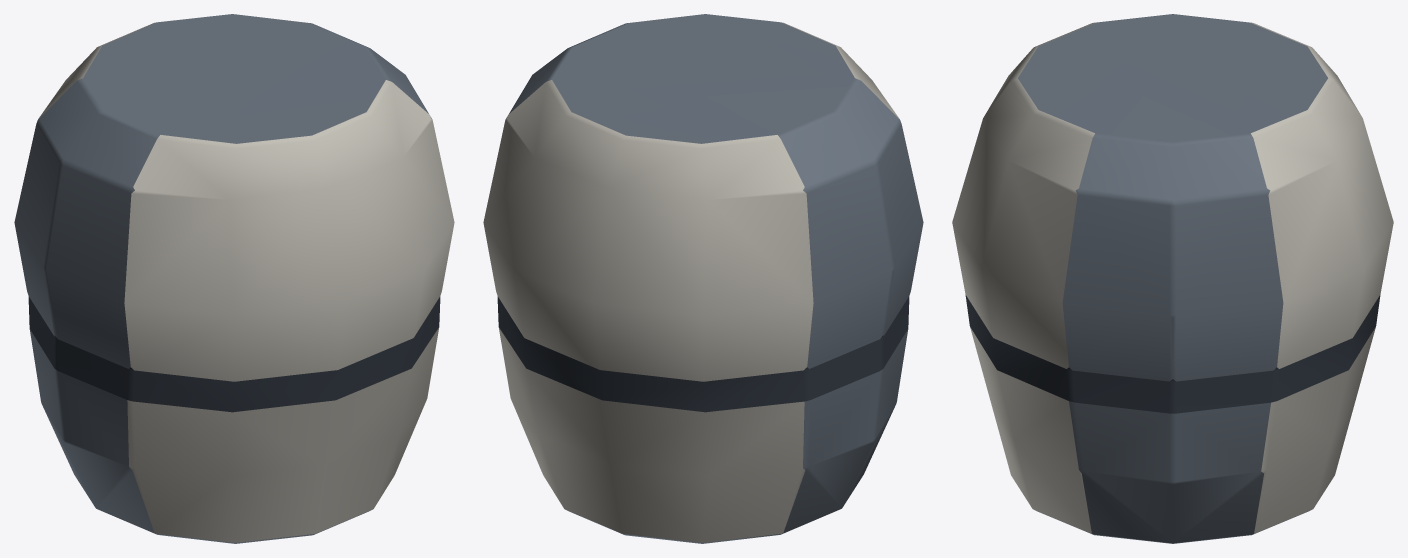
The model's file is forearm.glb.
The picture shows the model from 3 angles, left to right: view 1: azimuth 30°, elevation 25°; view 2: azimuth 150°, elevation 25°; view 3: azimuth 270°, elevation 25°; orthographic projection.
Parts seen in each view (by area): view 1: forearm; view 2: forearm; view 3: forearm.
Boxes of the visible parts, bbox=[...] form: forearm: bbox=[14, 14, 454, 543]; forearm: bbox=[483, 14, 923, 543]; forearm: bbox=[952, 14, 1393, 543].
Size of the model in its own units: 0.9974 by 1 by 1.
